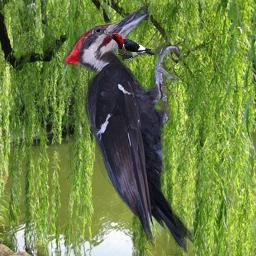Woodpecker: (63, 3, 194, 255), (103, 32, 157, 62)
